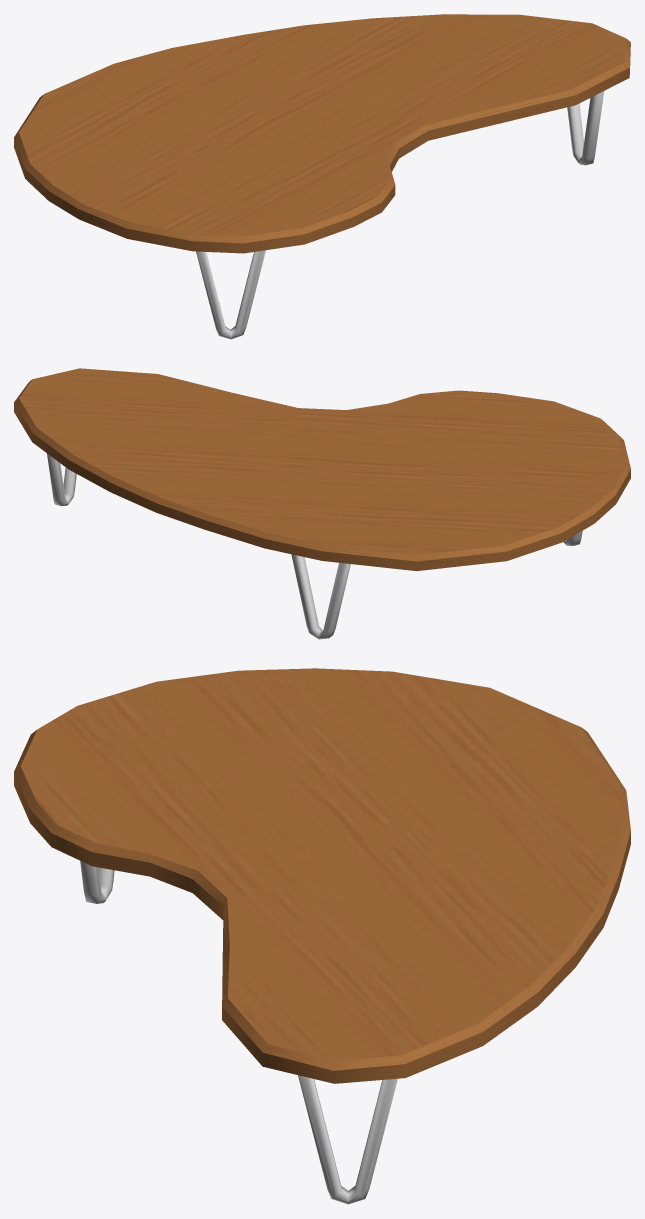
File: Kidney_Table_07.FBX
The picture shows the model from 3 angles, top to bottom: view 1: azimuth 30°, elevation 25°; view 2: azimuth 150°, elevation 25°; view 3: azimuth 270°, elevation 25°; orthographic projection. The views are drawn at different scales.
Visible parts, largest first — view 1: Kidney_Bean_Table; view 2: Kidney_Bean_Table; view 3: Kidney_Bean_Table.
Boxes of the visible parts, left/top/right/bottom form: Kidney_Bean_Table: left=14, top=14, right=630, bottom=339; Kidney_Bean_Table: left=14, top=368, right=630, bottom=639; Kidney_Bean_Table: left=14, top=668, right=630, bottom=1204.
Size of the model in its own units: 396 by 76.96 by 259.
